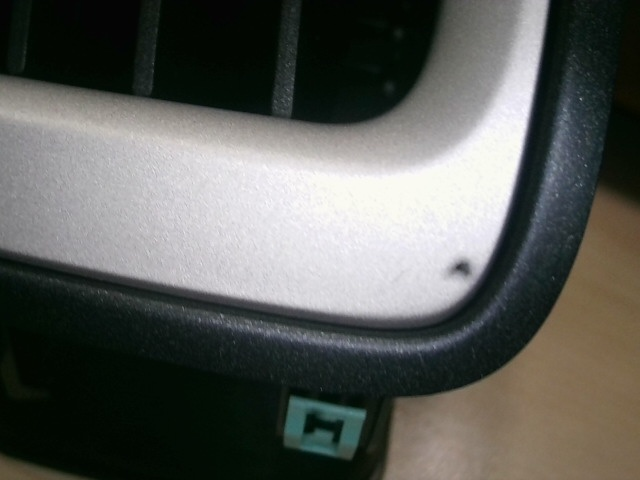NG: (389, 265, 417, 294), (564, 231, 580, 253)
